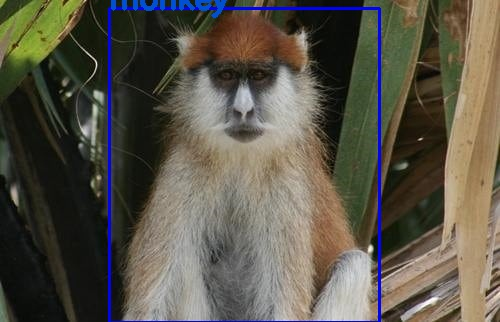monkey: (109, 7, 379, 321)
